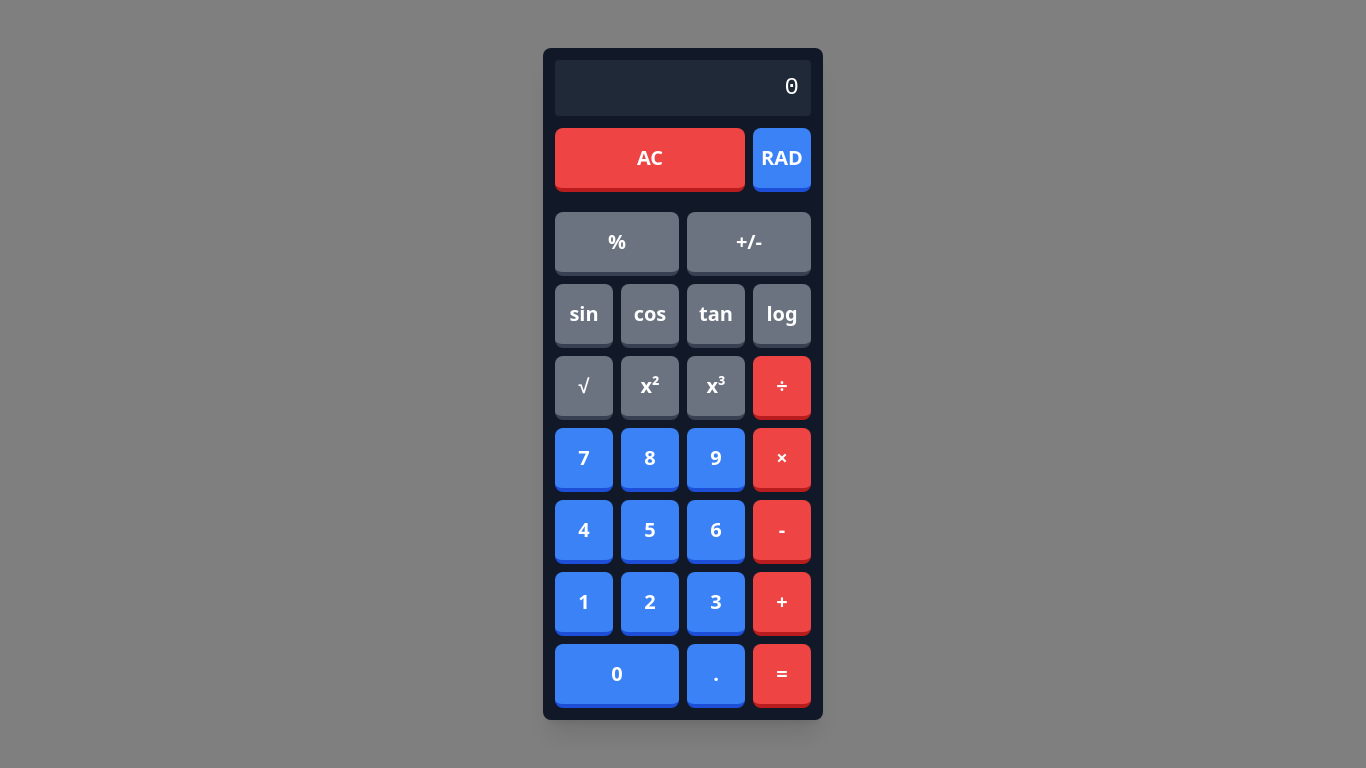
Calculator › handle squared notation
Click the button "9" at [716, 460], box [687, 428, 745, 492]
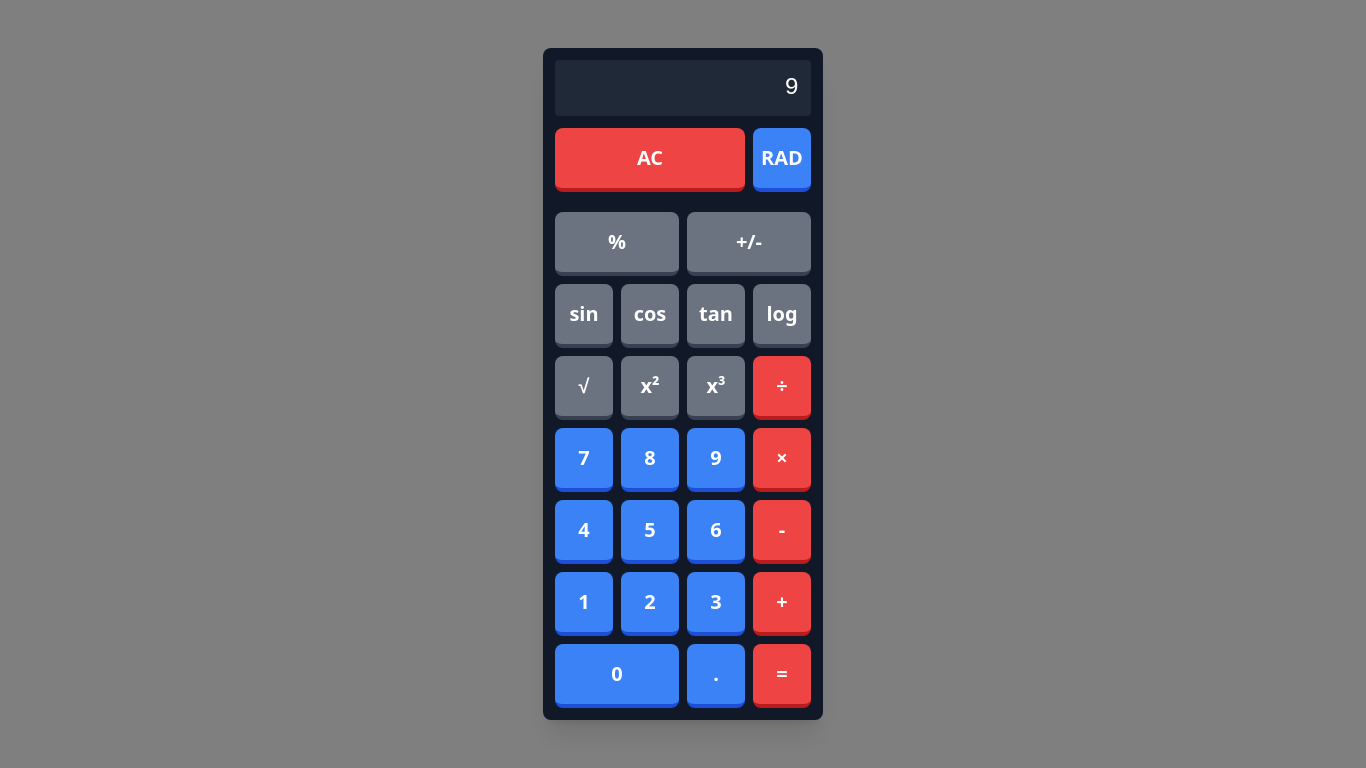
Click the button "x²" at [650, 388], box [621, 356, 679, 420]
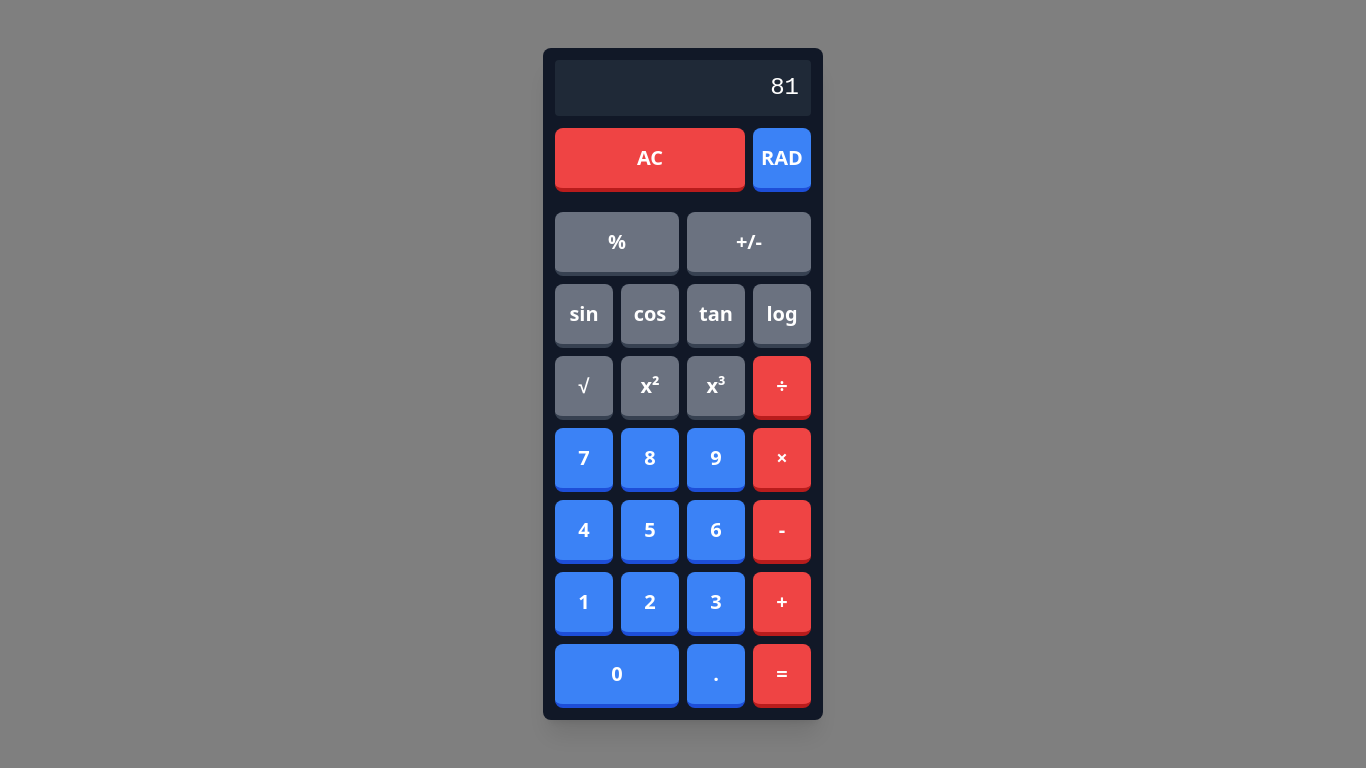
Expected: the text with test id "calculator-display" reads "81", [770, 74, 799, 101]
